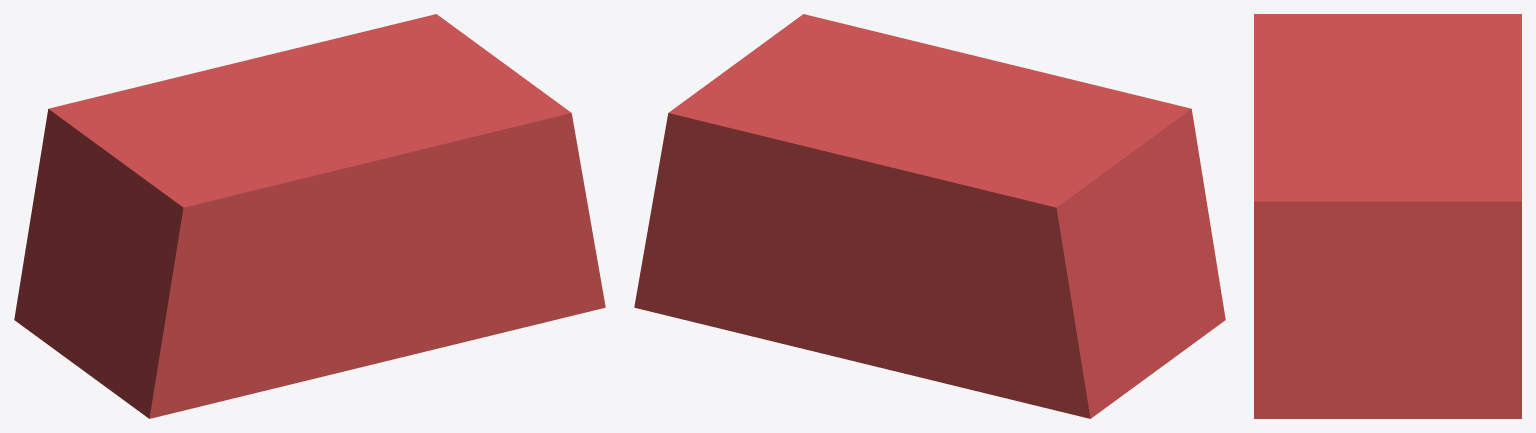
Rendered from Basic_Lower_Torso.FBX.
3 renders of one model, left to right at view 1: azimuth 30°, elevation 25°; view 2: azimuth 150°, elevation 25°; view 3: azimuth 270°, elevation 25°, orthographic.
Visible parts, largest first — view 1: Object001; view 2: Object001; view 3: Object001.
Part boxes in pixels (left/top/right/bottom): Object001: left=14, top=14, right=605, bottom=418; Object001: left=634, top=14, right=1225, bottom=418; Object001: left=1254, top=14, right=1521, bottom=418.
Size of the model in its own units: 12.88 by 5.47 by 6.61.
